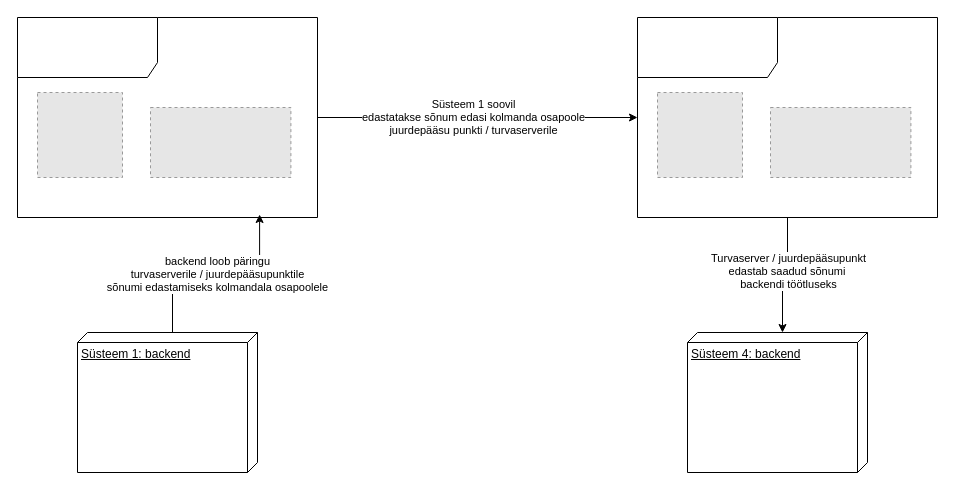
Some shapes in this 955 by 490 pixel diagram are drawn without their labels. Grey dashed boxes stand in for pictures. The shapes that lost their labels are listed below. From the top down, each one's centre as x and y in pixels, then its label:
At point 167,117: "Süsteem 2: juurdepääsupunkt / turvaserver".
At point 787,117: "Süsteem 3: juurdepääsupunkt / turvaserver".
